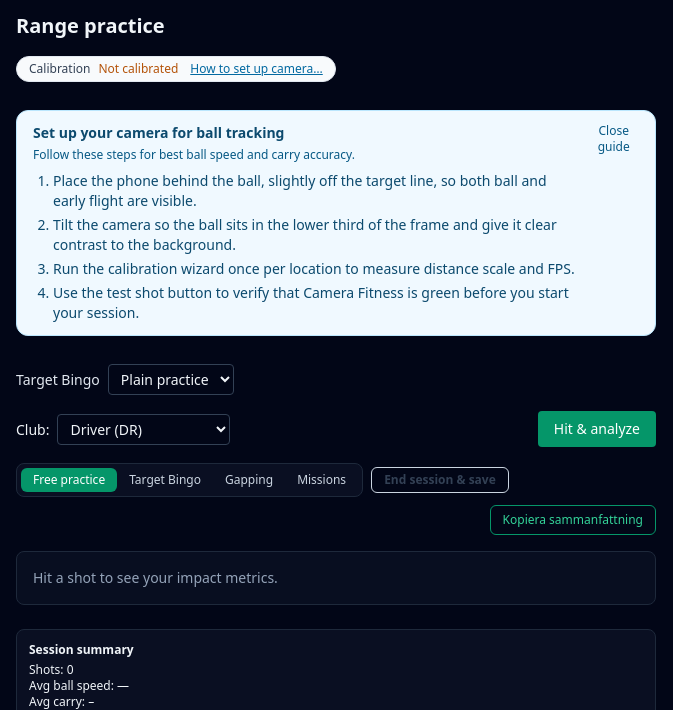
Scenario: RangePracticePage › logs a shot and updates UI
The width and height of the screenshot is (673, 710).
Select "Pitching wedge (PW)" in the dropdown labelled "Club:" at (144, 429), box [58,414,230,444]
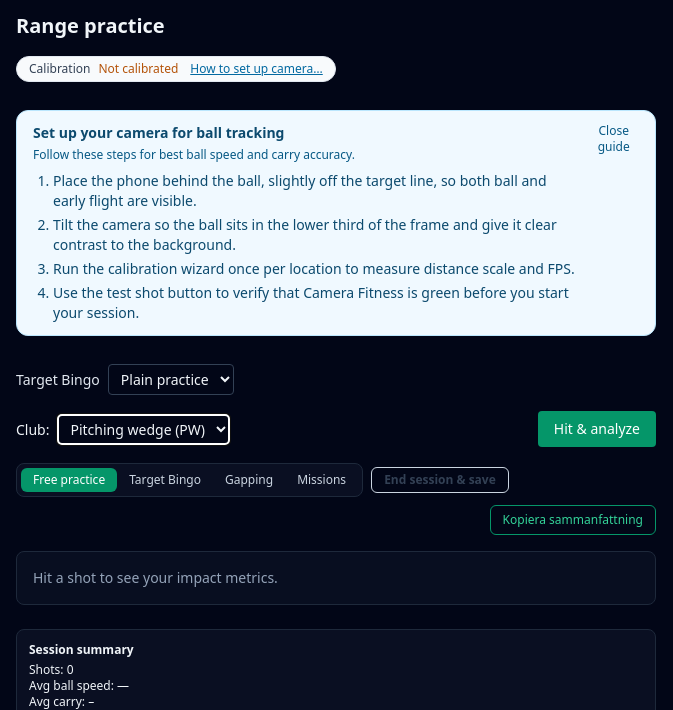
Click the button "Hit & analyze" at (597, 429), box [538,411,656,447]
(page scrolled)
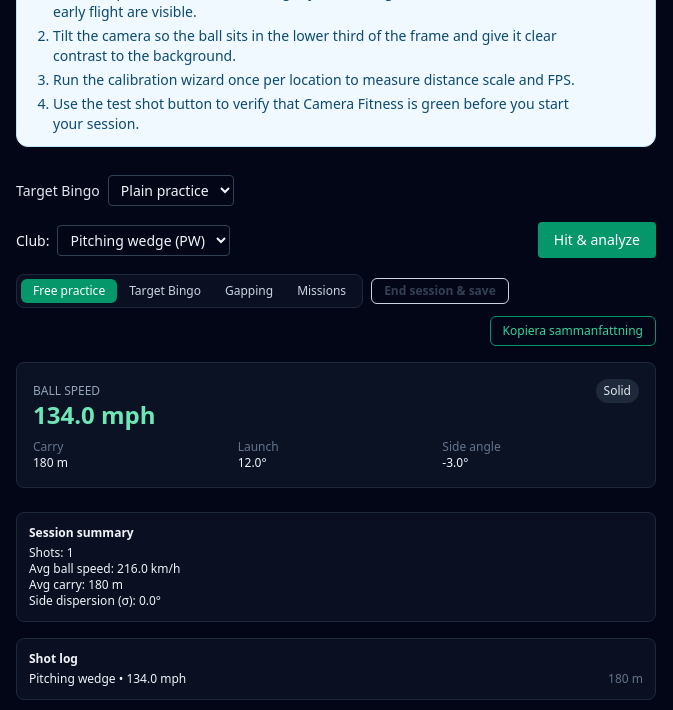
Now the text "134.0 mph" is shown, box [33,399,156,431]
Now the text "Shots: 1" is shown, box [29,544,74,561]
Now the text "Pitching wedge • 134.0 mph" is shown, box [29,671,186,687]
